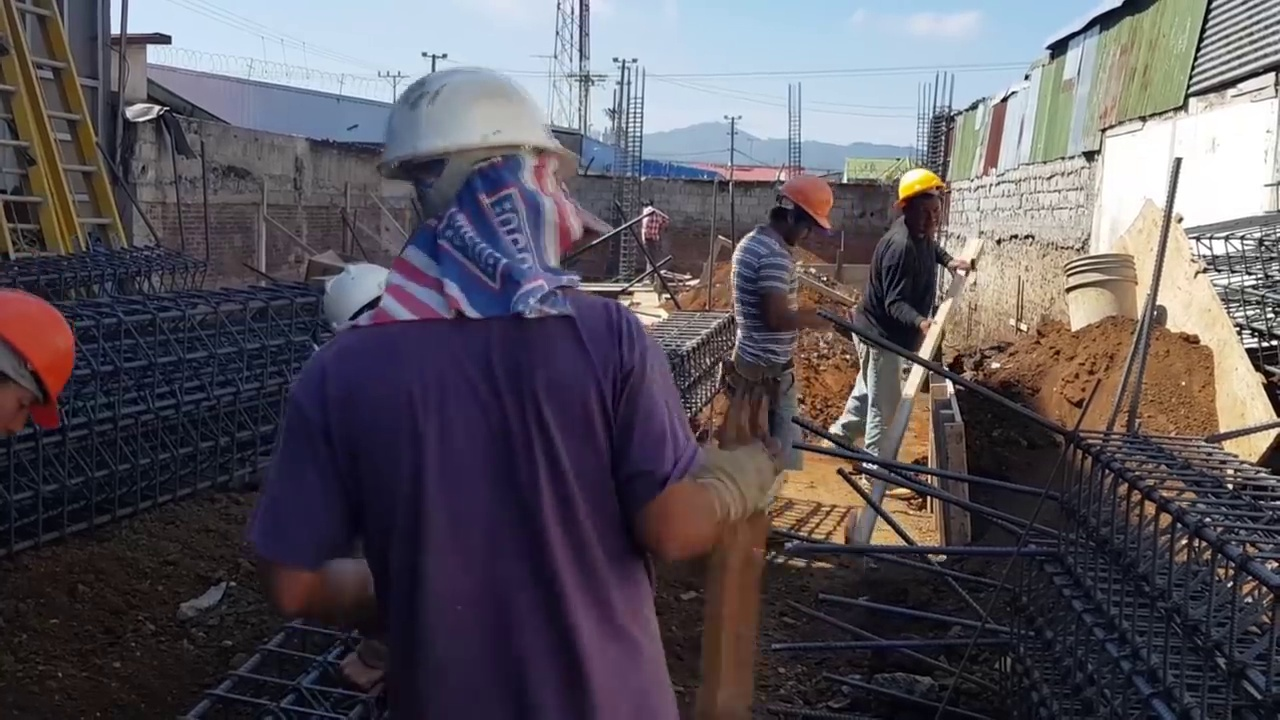helmet: (367, 61, 573, 193), (1, 293, 80, 429), (317, 260, 388, 333), (777, 174, 838, 234), (894, 169, 948, 203)
helmet-off: (639, 195, 654, 210)
helmet-on: (368, 57, 603, 327), (0, 284, 82, 453), (753, 169, 843, 252), (896, 164, 952, 244)
person: (284, 55, 694, 711), (843, 167, 980, 477), (716, 167, 841, 476), (640, 196, 669, 284)
